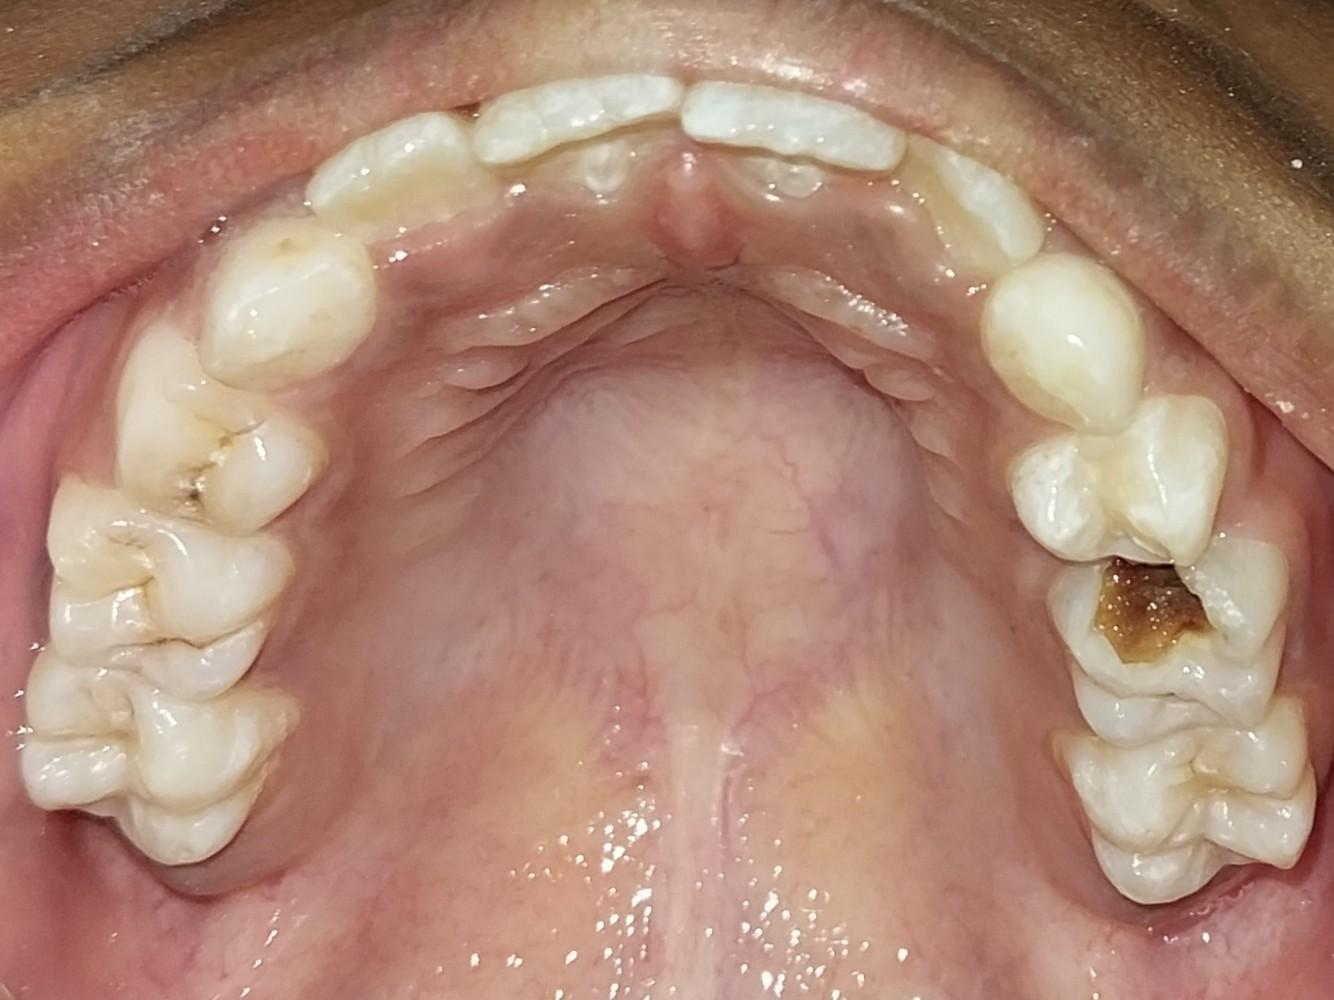d: (1048, 546, 1293, 744), (106, 329, 319, 537)
